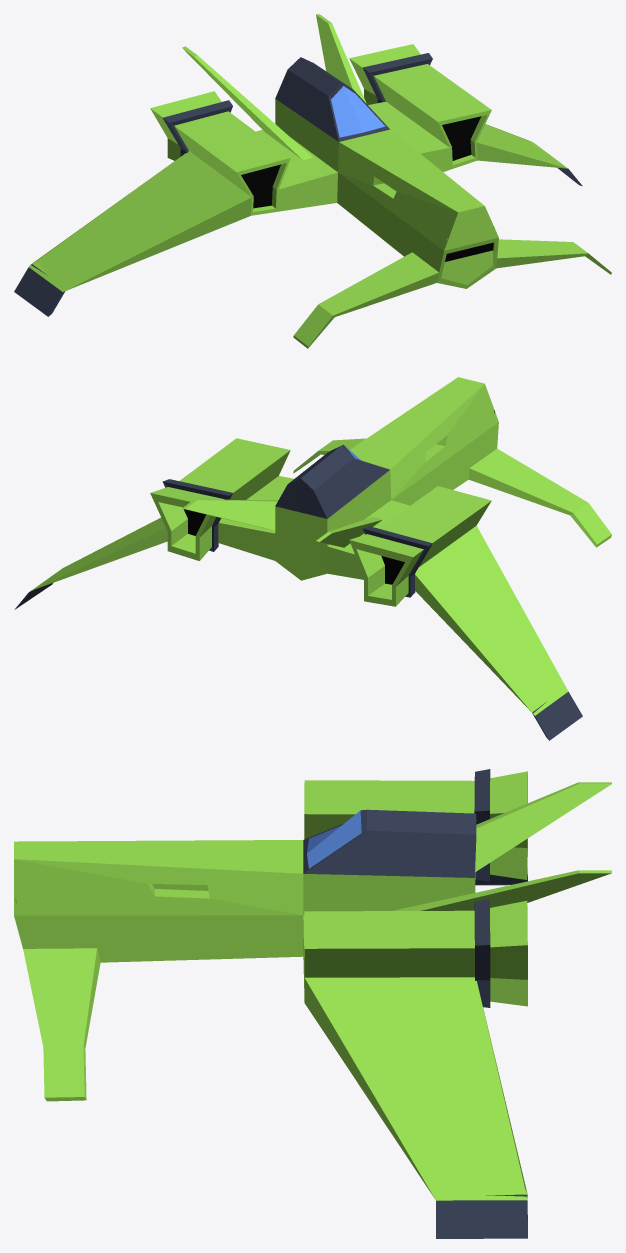
The model's file is SolarValkyrie.glb.
3 renders of one model, top to bottom at view 1: azimuth 30°, elevation 25°; view 2: azimuth 150°, elevation 25°; view 3: azimuth 270°, elevation 25°, orthographic. The views are drawn at different scales.
Visible parts, largest first — view 1: SolarValkyrie; view 2: SolarValkyrie; view 3: SolarValkyrie.
Boxes of the visible parts, x1,y1,x2,y2 form: SolarValkyrie: (14,14,611,348); SolarValkyrie: (14,377,611,740); SolarValkyrie: (14,769,611,1238).
Size of the model in its own units: 20.49 by 6.82 by 14.64.
Materials: 1 (1 with a texture image).
